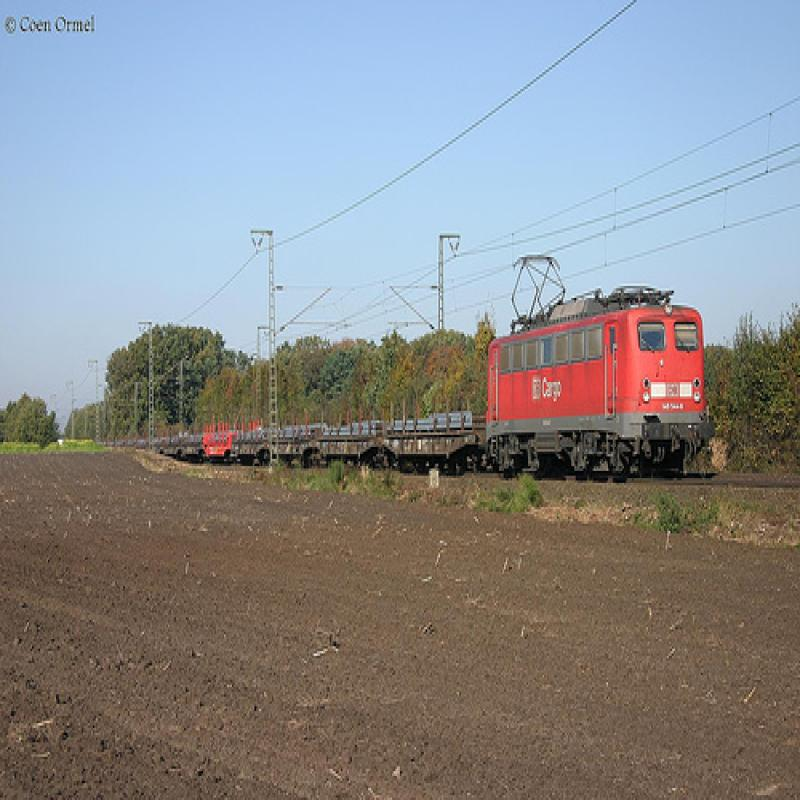train: (104, 256, 715, 482)
